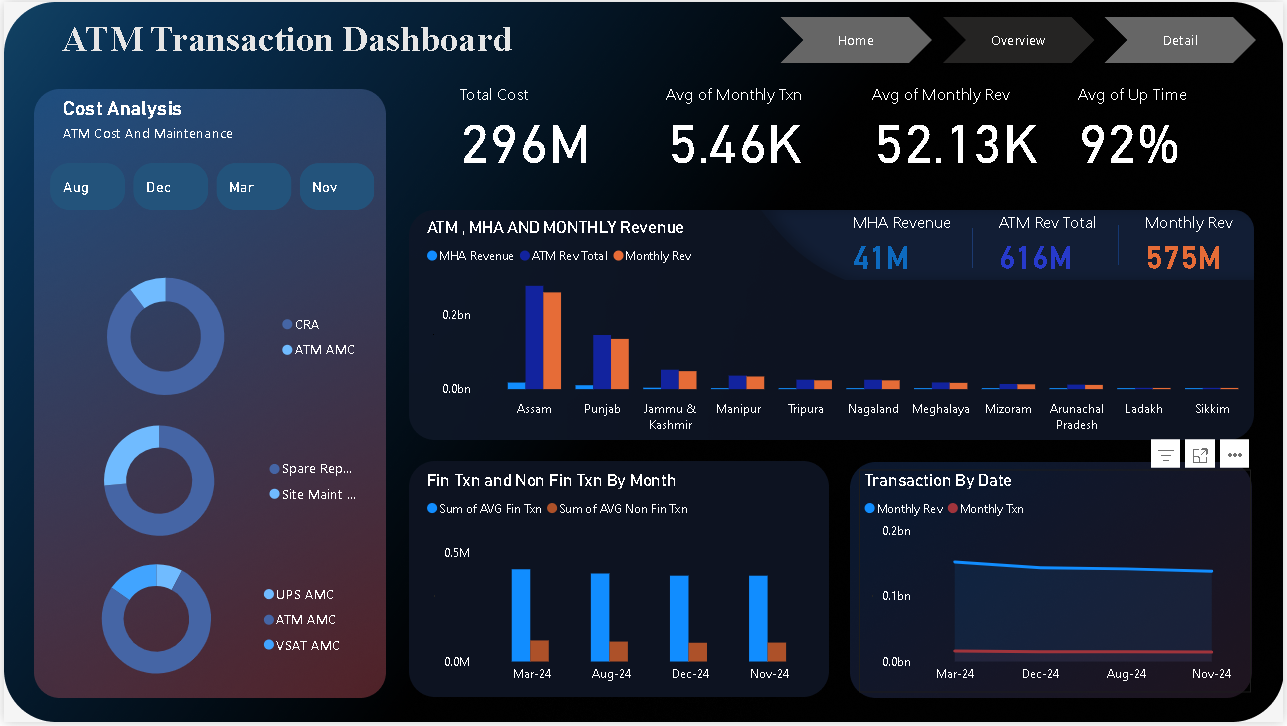

Layout of this report page (visuals, bound fields, positions):
{"tool":"powerbi","page":{"name":"Overview","canvas":[1280,720],"ordinal":1},"visuals":[{"type":"donutChart","fields":{"Y":["Sum(Dataset.CRA)","Sum(Dataset.ATM AMC)"]},"box":[41.1,256.7,322.2,156.7],"z":0},{"type":"donutChart","fields":{"Y":["Sum(Dataset.UPS AMC)","Sum(Dataset.ATM AMC)","Sum(Dataset.VSAT AMC)"]},"box":[41.1,543.3,306.7,146.7],"z":1000},{"type":"donutChart","fields":{"Y":["Sum(Dataset.Spare Rep.(UPS))","Sum(Dataset.Site Maint (Non Asset))"]},"box":[41.1,405.6,322.2,147.8],"z":2000},{"type":"clusteredColumnChart","title":"   ATM , MHA AND MONTHLY Revenue","fields":{"Y":["Sum(Dataset.MHA Revenue)","Sum(Dataset.ATM Rev Total)","Sum(Dataset.Monthly Rev)"],"Category":["Dataset.STATE"]},"box":[417.8,214.4,850,223.3],"z":3000},{"type":"clusteredColumnChart","title":"Fin Txn and Non Fin Txn By Month","fields":{"Y":["Sum(Dataset.AVG Fin Txn)","Sum(Dataset.AVG Non Fin Txn)"],"Category":["Dataset.Month-Yr"]},"box":[417.8,467.8,405.6,222.2],"z":4000},{"type":"areaChart","title":"Transaction By Date","fields":{"Category":["Dataset.Month-Yr"],"Y":["Sum(Dataset.Monthly Rev)","Sum(Dataset.Monthly Txn)"]},"box":[854.4,467.8,392.2,222.2],"z":5000},{"type":"advancedSlicerVisual","fields":{"Values":["Dataset.Short_Month"]},"box":[41.1,156.7,335.6,57.8],"z":6000},{"type":"textbox","title":"Cost Analysis","box":[53.3,95.6,335.6,61.1],"z":7000},{"type":"cardVisual","fields":{"Data":["Sum(Dataset. Total Cost  )","Avg(Dataset.Monthly Txn)","Avg(Dataset.Monthly Rev)","Avg(Dataset.Up Time)"]},"box":[438.9,48.9,828.9,154.4],"z":8000},{"type":"cardVisual","title":"   ATM , MHA AND MONTHLY Revenue","fields":{"Data":["Sum(Dataset.MHA Revenue)","Sum(Dataset.ATM Rev Total)","Sum(Dataset.Monthly Rev)"]},"box":[837.8,174.4,442.2,130],"z":9000},{"type":"pageNavigator","box":[776.7,14.4,477.8,46.7],"z":10000},{"type":"textbox","title":"ATM Transaction Dashboard","box":[53.1,14.6,948.5,46.9],"z":11000}]}

Visuals, with their boxes in screenshot pixels (x1, y1, x2, y2), scaled from the page's 1280x720 canvas onto the 1287x726 screenshot:
donutChart - Sum(Dataset.CRA) x Sum(Dataset.ATM AMC): (41,259,365,417)
donutChart - Sum(Dataset.UPS AMC) x Sum(Dataset.ATM AMC): (41,548,350,696)
donutChart - Sum(Dataset.Spare Rep.(UPS)) x Sum(Dataset.Site Maint (Non Asset)): (41,409,365,558)
"   ATM , MHA AND MONTHLY Revenue" clusteredColumnChart: (420,216,1275,441)
"Fin Txn and Non Fin Txn By Month" clusteredColumnChart: (420,472,828,696)
"Transaction By Date" areaChart: (859,472,1253,696)
advancedSlicerVisual - Dataset.Short_Month: (41,158,379,216)
"Cost Analysis" textbox: (54,96,391,158)
cardVisual - Sum(Dataset. Total Cost  ) x Avg(Dataset.Monthly Txn): (441,49,1275,205)
"   ATM , MHA AND MONTHLY Revenue" cardVisual: (842,176,1286,307)
pageNavigator: (781,15,1261,62)
"ATM Transaction Dashboard" textbox: (53,15,1007,62)
